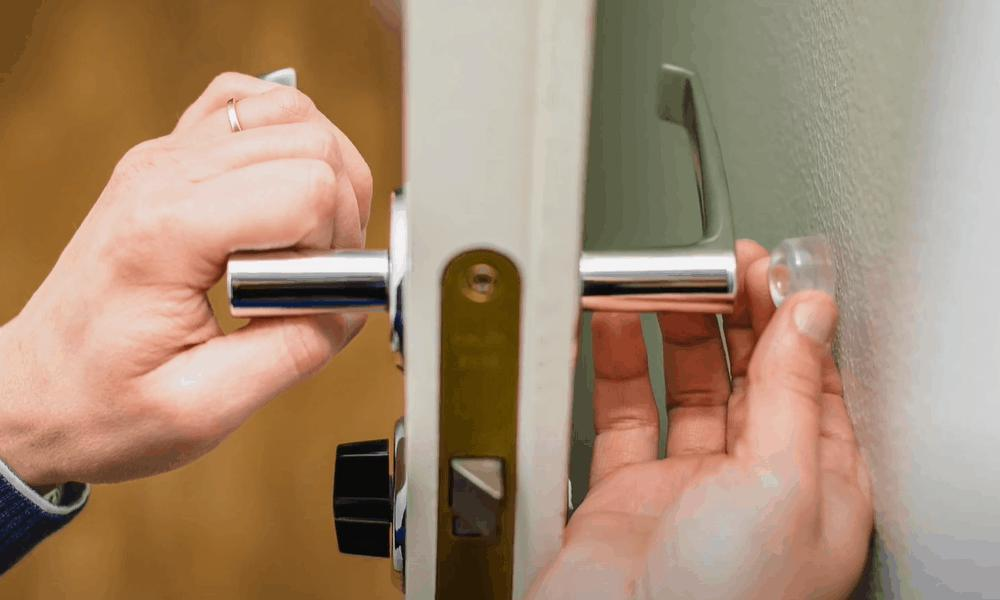doorhandle: (165, 39, 428, 342), (560, 50, 780, 355)
